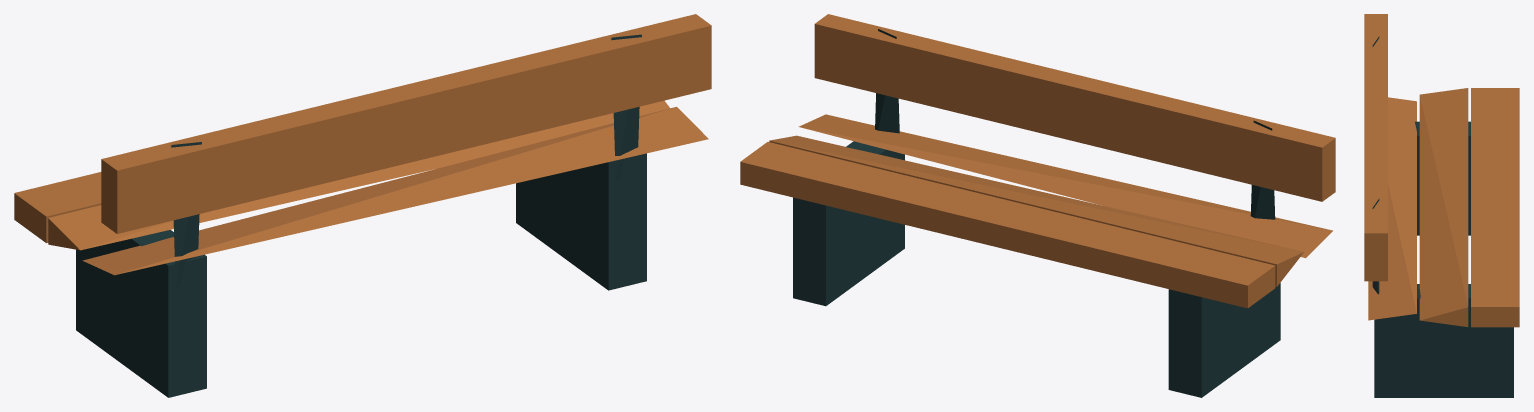
Rendered from bench_aquarium.fbx.
3 views of the same model, side by side, from view 1: azimuth 30°, elevation 25°; view 2: azimuth 150°, elevation 25°; view 3: azimuth 270°, elevation 25° (orthographic). The views are drawn at different scales.
Parts seen in each view (by area): view 1: bench_aquarium; view 2: bench_aquarium; view 3: bench_aquarium.
Part boxes in pixels (left/top/right/bottom): bench_aquarium: left=14, top=14, right=711, bottom=397; bench_aquarium: left=740, top=14, right=1335, bottom=397; bench_aquarium: left=1364, top=14, right=1519, bottom=397.
Size of the model in its own units: 2 by 0.8 by 0.6.
